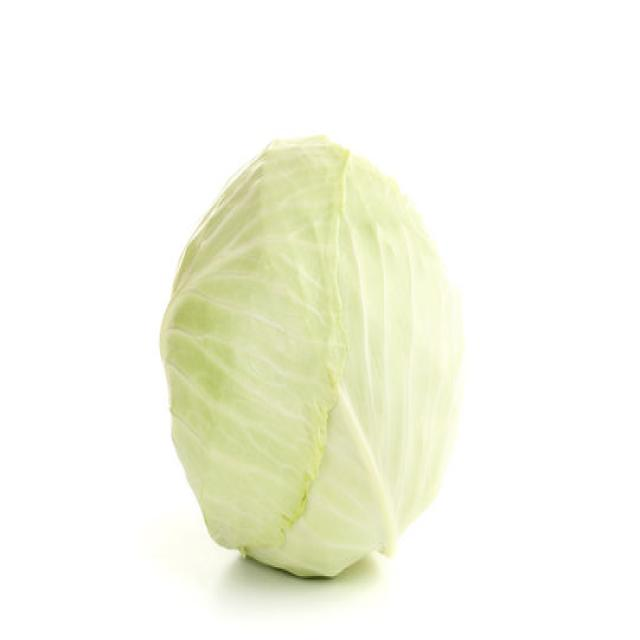Cabbage: (158, 132, 464, 580)
